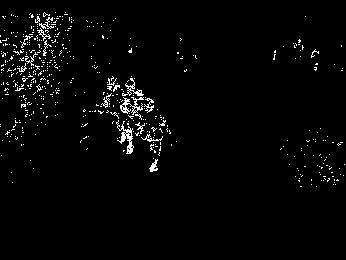person: (135, 95, 178, 175)
